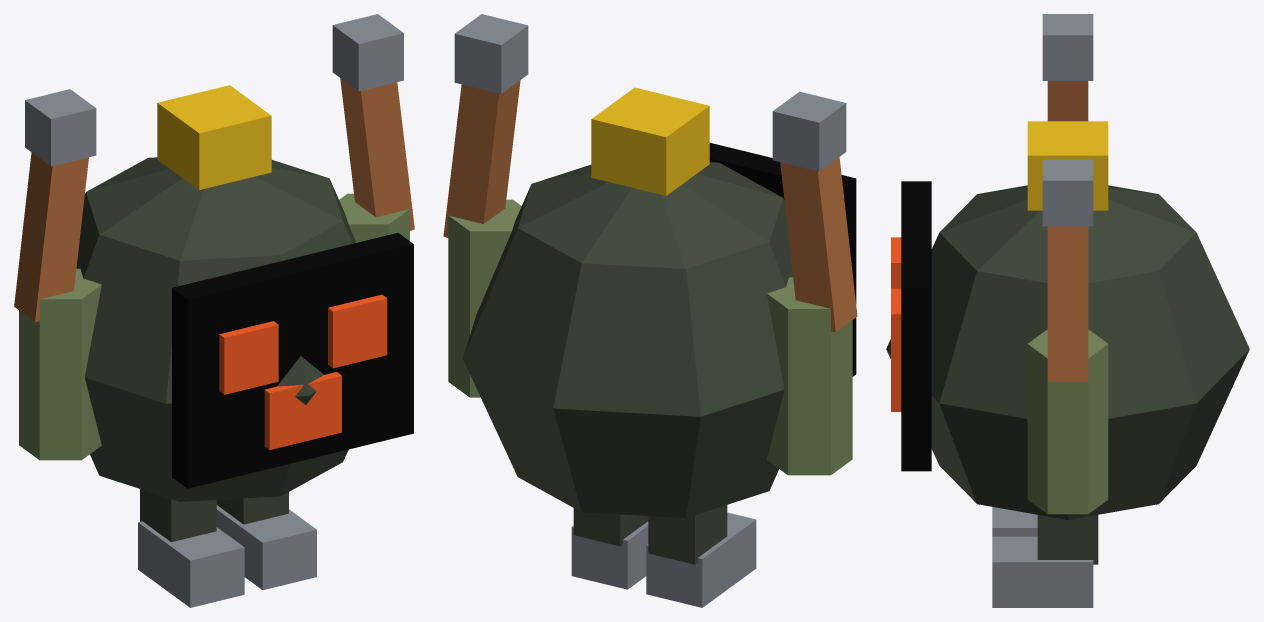
Rendered from kamikaze_r7.glb.
3 renders of one model, left to right at view 1: azimuth 30°, elevation 25°; view 2: azimuth 150°, elevation 25°; view 3: azimuth 270°, elevation 25°, orthographic. The views are drawn at different scales.
Parts seen in each view (by area): view 1: kamikaze_r7_mesh; view 2: kamikaze_r7_mesh; view 3: kamikaze_r7_mesh.
Boxes of the visible parts, x1=… form: kamikaze_r7_mesh: x1=14, y1=14, x2=414, y2=607; kamikaze_r7_mesh: x1=443, y1=14, x2=857, y2=607; kamikaze_r7_mesh: x1=886, y1=14, x2=1249, y2=607.
Bounding box in the file's own units: 1.04 × 1.3 × 0.8914.
Materials: 1 (1 with a texture image).
